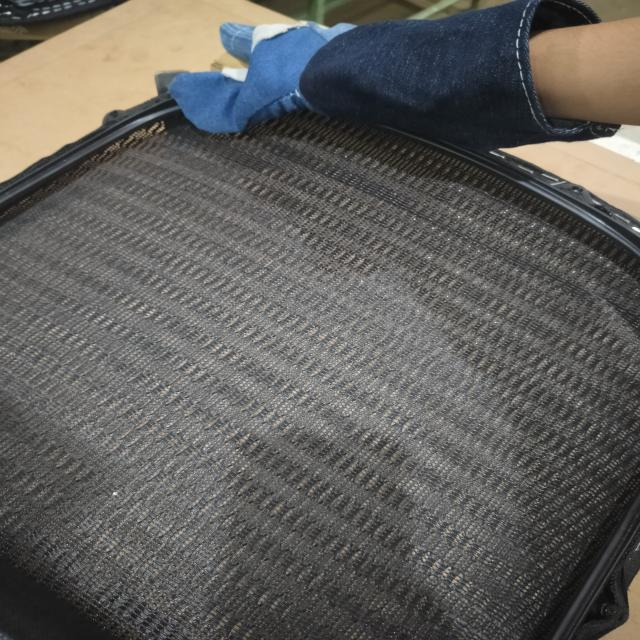Gloves-Detection: (161, 16, 563, 142)
